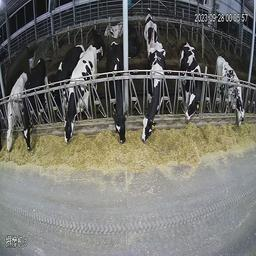cow: (66, 46, 99, 142), (137, 43, 167, 141), (22, 58, 49, 155), (105, 43, 130, 144), (213, 50, 245, 128), (180, 38, 204, 122), (1, 69, 21, 155), (52, 41, 72, 109), (144, 6, 160, 46), (104, 20, 123, 42), (90, 29, 104, 58)
